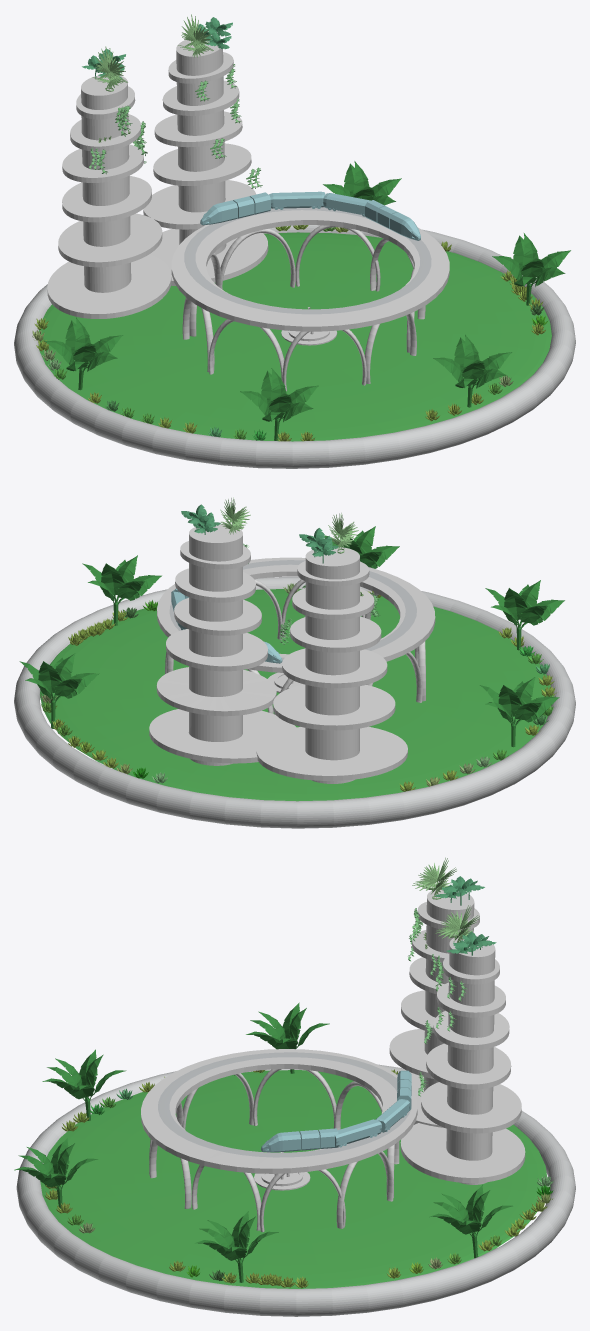
Rendered from ExquisiteJofo7.glb.
3 renders of one model, top to bottom at view 1: azimuth 30°, elevation 25°; view 2: azimuth 150°, elevation 25°; view 3: azimuth 270°, elevation 25°, orthographic.
Visible parts, largest first — view 1: Mesh_Mesh_head_geo.001_lambert2SG.001; view 2: Mesh_Mesh_head_geo.001_lambert2SG.001; view 3: Mesh_Mesh_head_geo.001_lambert2SG.001.
Boxes of the visible parts, <box> form: Mesh_Mesh_head_geo.001_lambert2SG.001: <box>14,14,575,468</box>; Mesh_Mesh_head_geo.001_lambert2SG.001: <box>14,497,575,828</box>; Mesh_Mesh_head_geo.001_lambert2SG.001: <box>14,857,575,1316</box>.
Size of the model in its own units: 0.102 by 0.06 by 0.0995.
